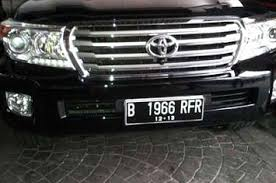plate: (125, 98, 204, 122)
